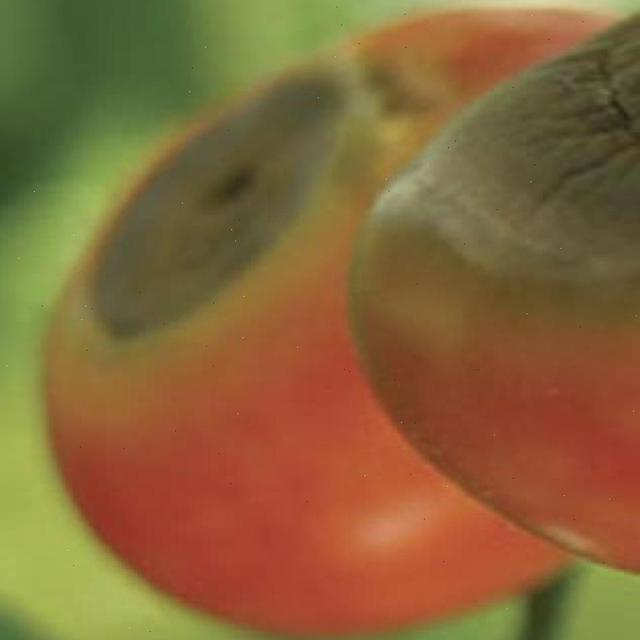Blossom End Rot Fruit: (144, 112, 344, 212)
